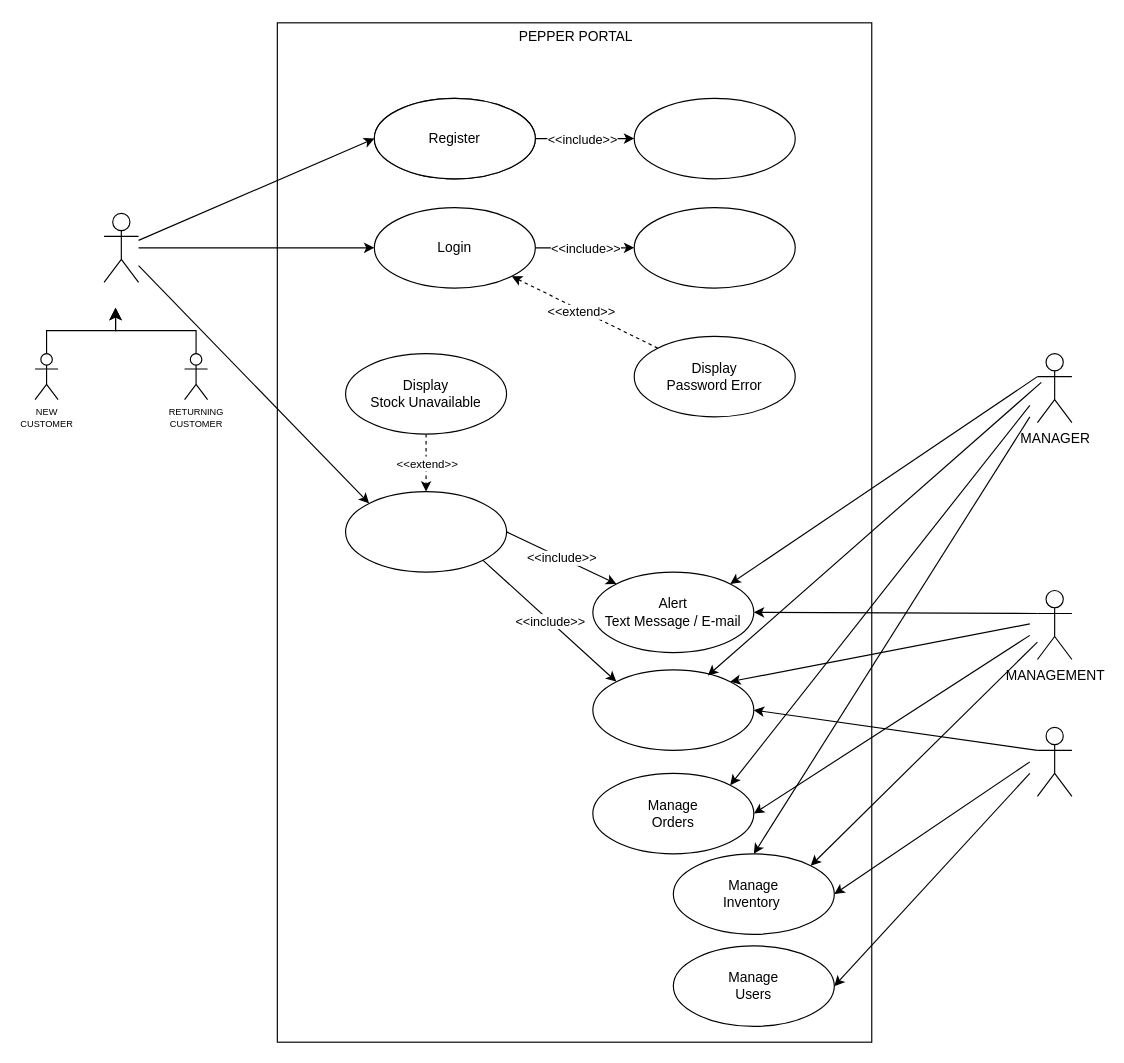
The diagram is 1124 pixels wide and 1063 high, and some of its shapes have lost their labels. The shapes that lost their labels are listed below. From the top down, each one's box as (x1, y1, x2, y2) in pixels, then its label:
(633, 97, 795, 179): Verify Tel No.
(103, 212, 139, 282): CUSTOMER
(633, 206, 795, 288): Verify Password
(344, 490, 507, 572): Make Order
(592, 669, 754, 750): Check Inventory
(1036, 726, 1072, 796): ADMIN
